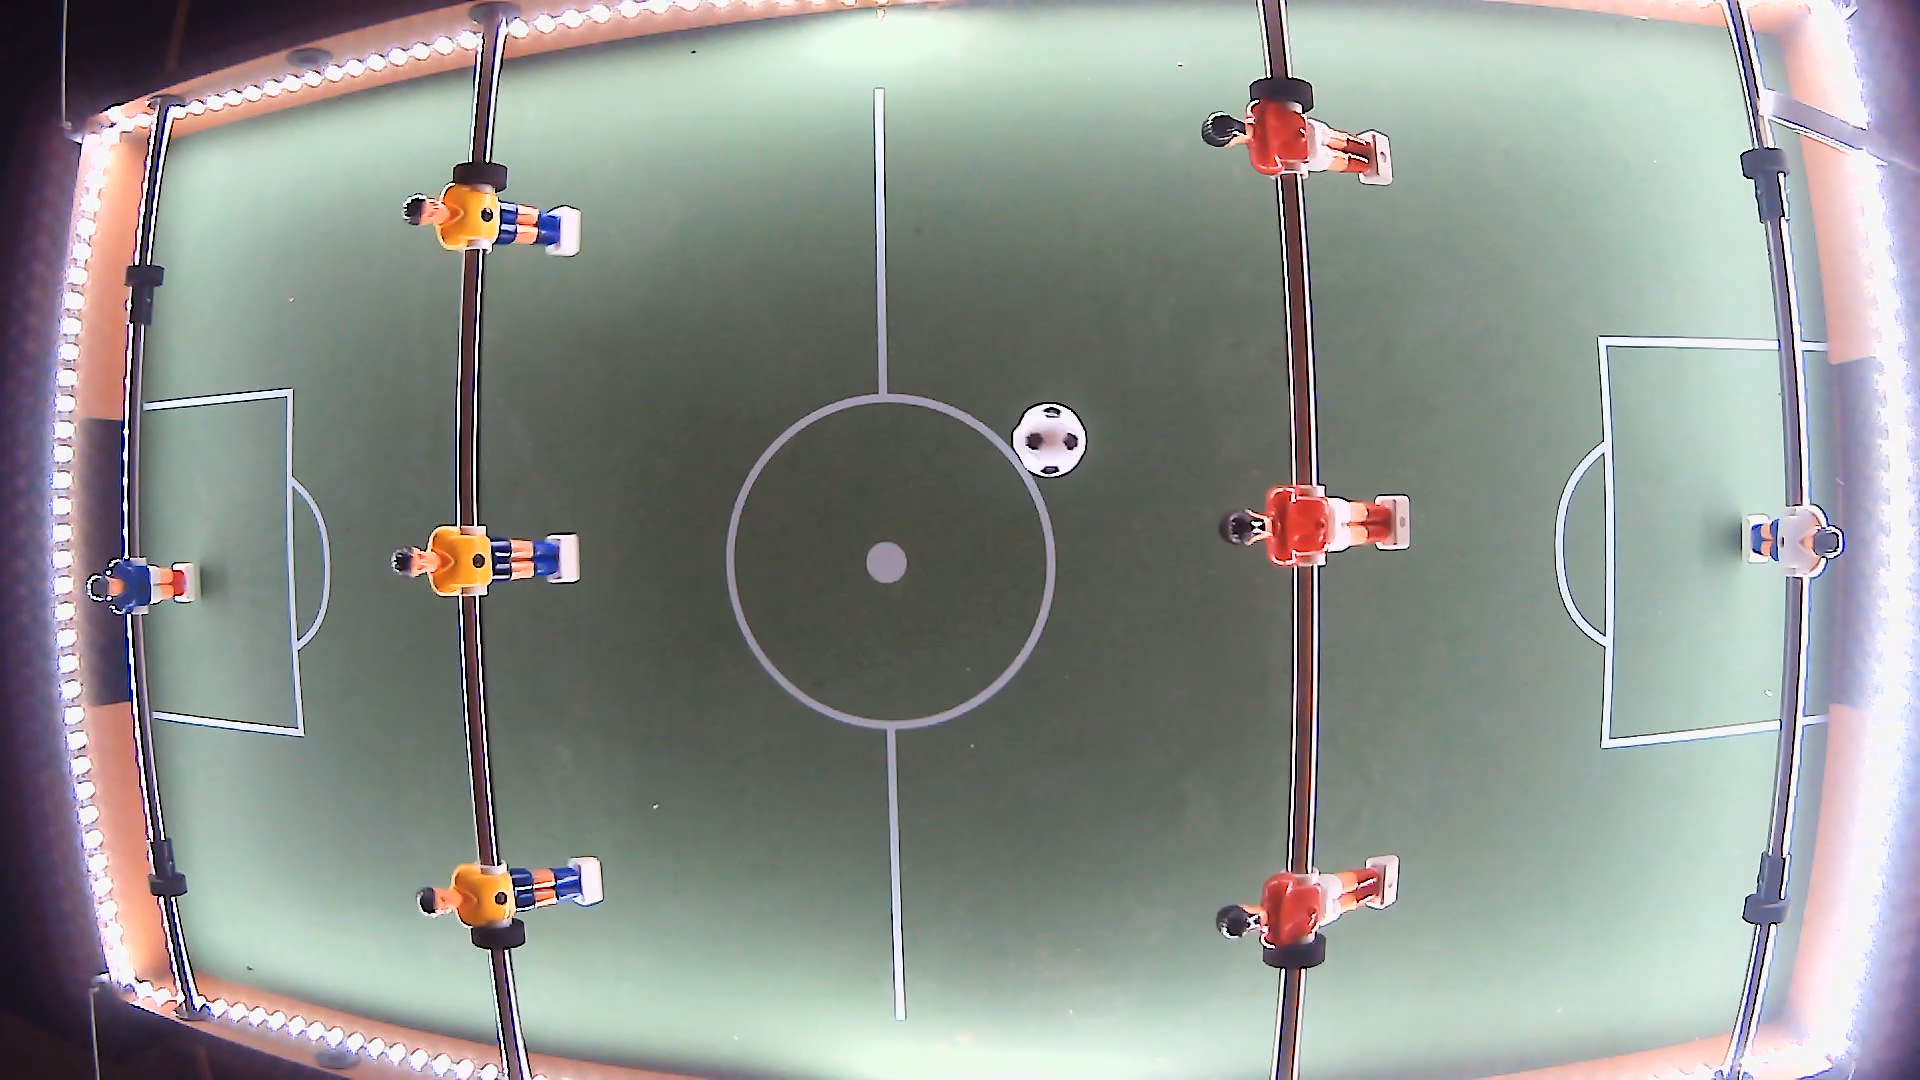Foosball: (1011, 402, 1088, 479)
